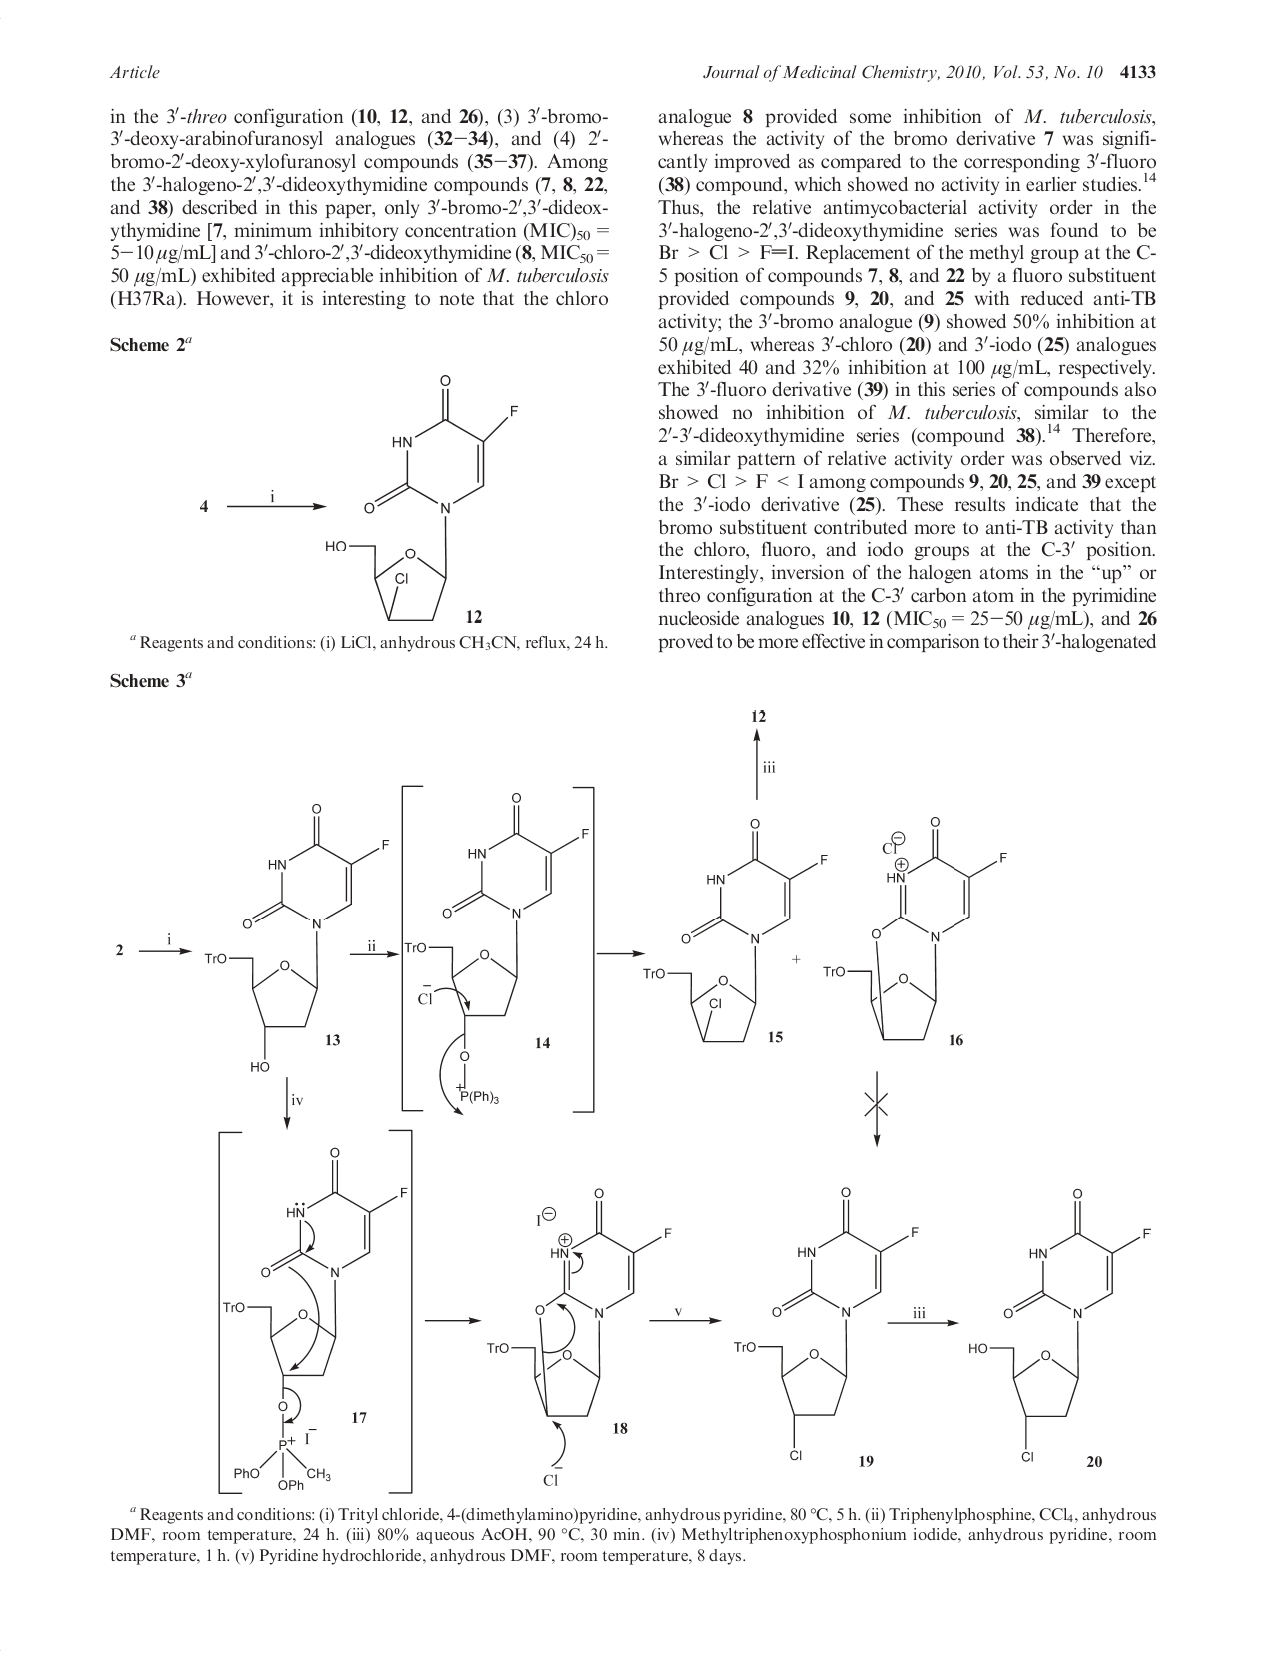exist_molecular: (481, 1169, 690, 1489), (219, 1132, 404, 1493), (404, 791, 594, 1124), (959, 1181, 1158, 1470), (313, 374, 537, 622), (199, 795, 392, 1083), (733, 1180, 926, 1458), (821, 809, 1020, 1063), (637, 814, 830, 1047)
